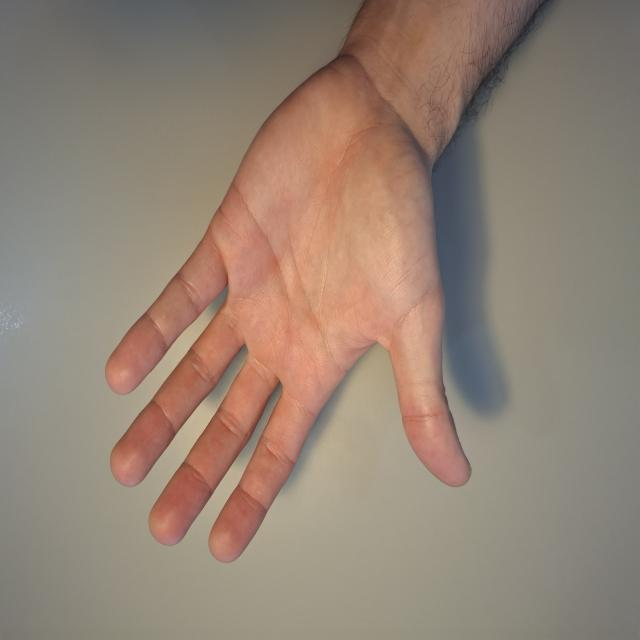glove_off: (102, 42, 475, 568)
